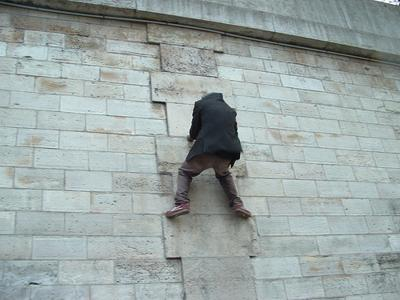person: (166, 91, 253, 220)
